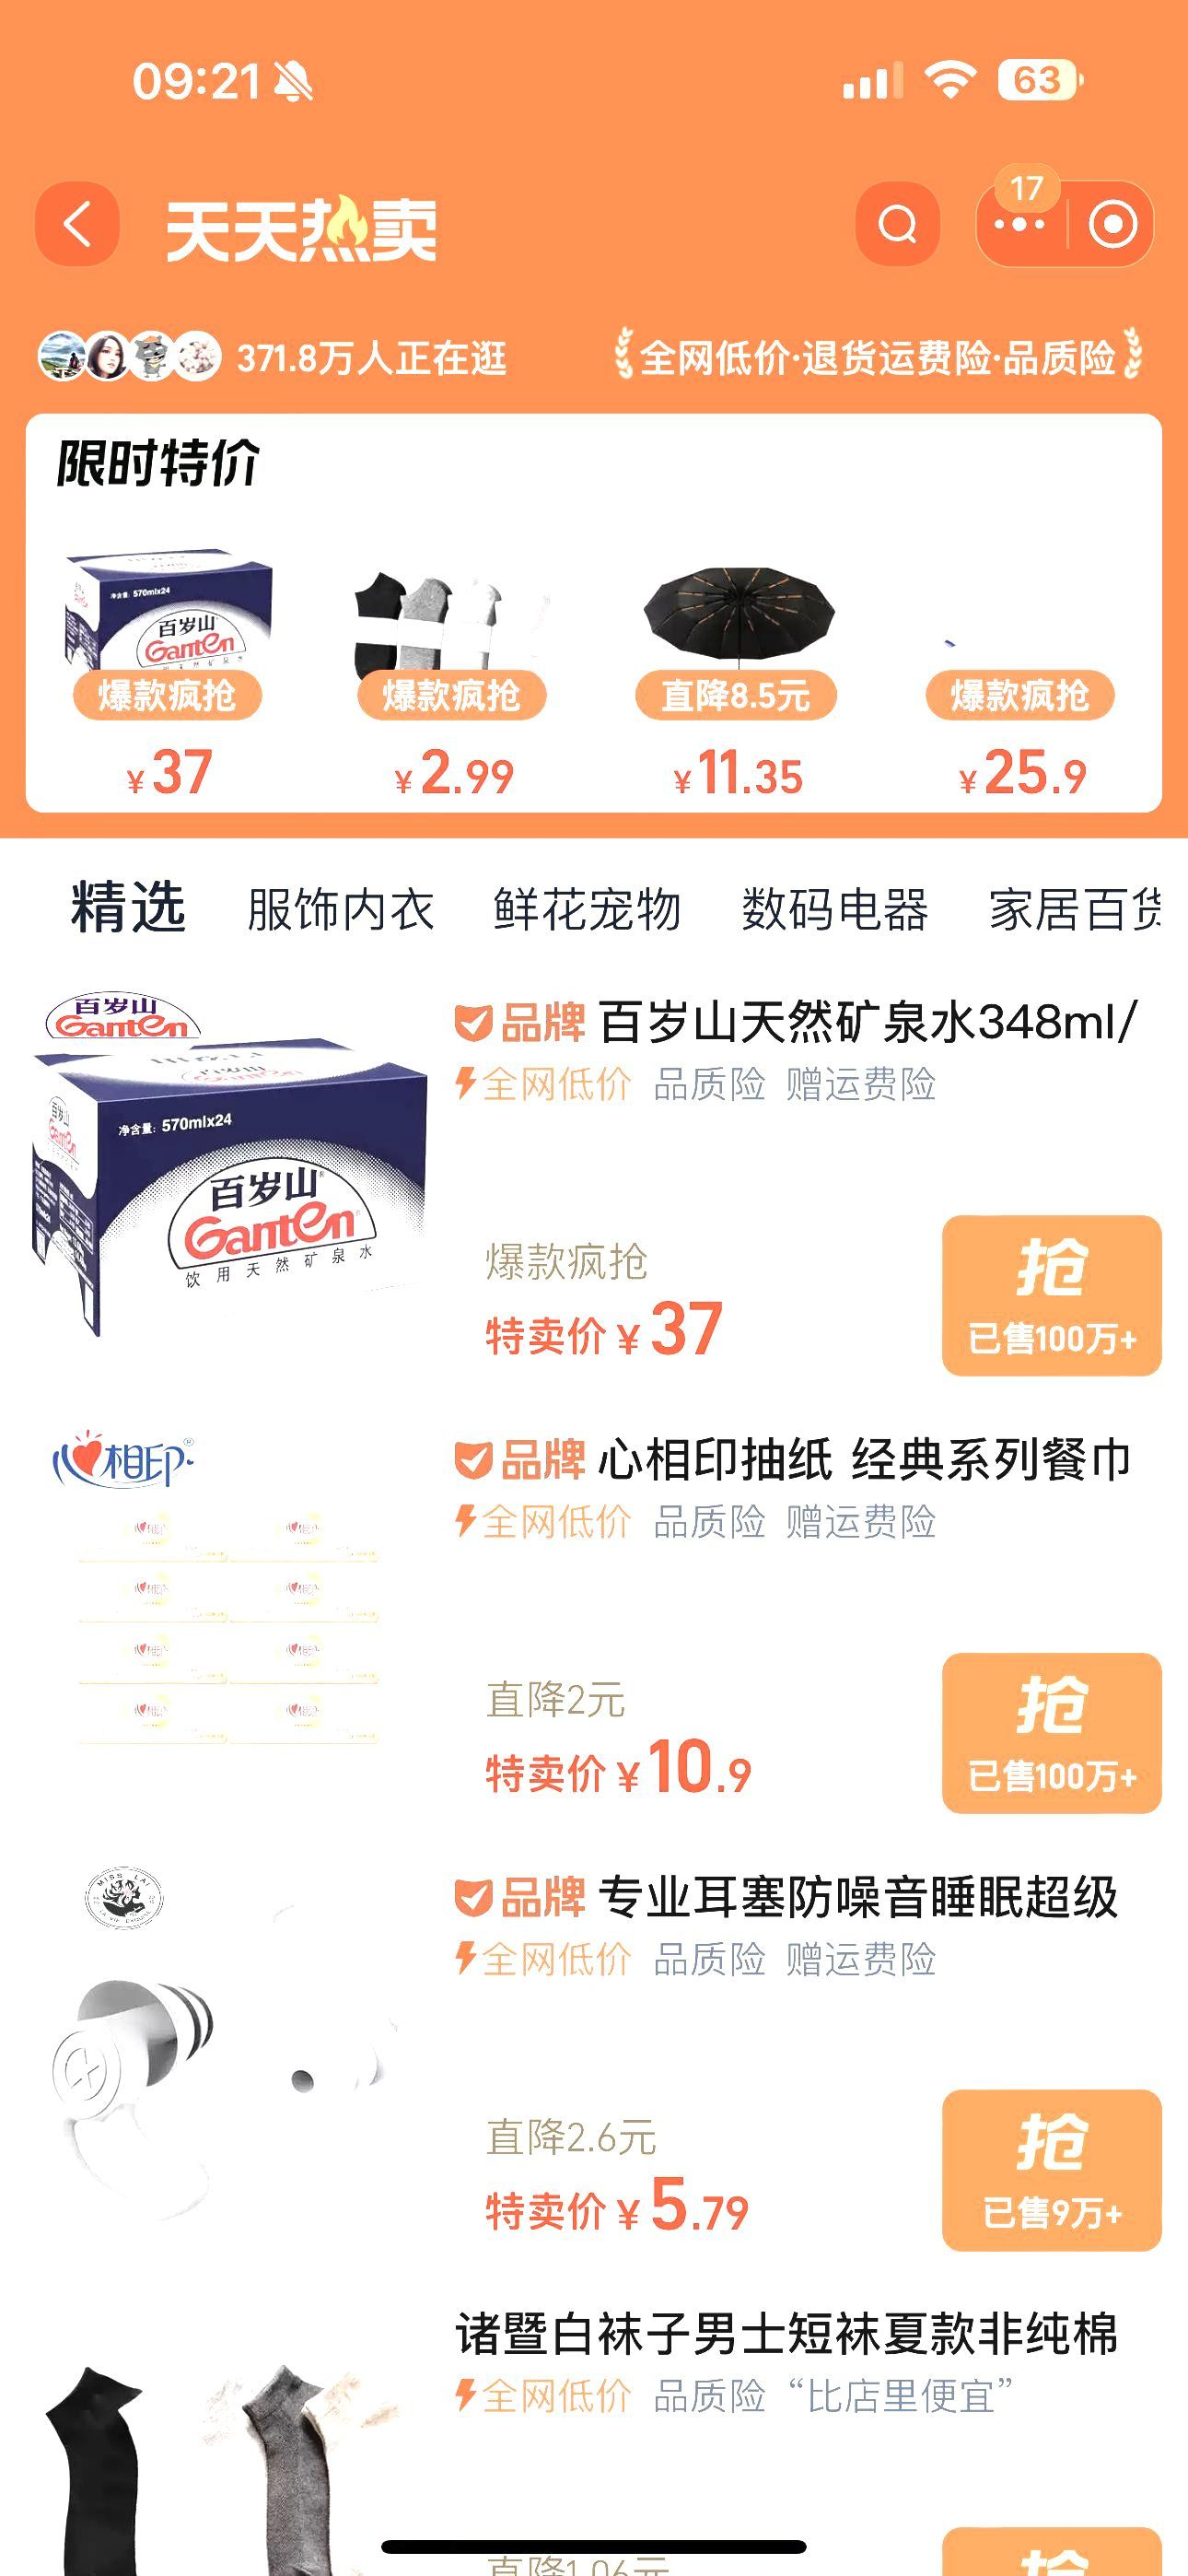item: (7, 936, 1181, 1408), (7, 1851, 1186, 2279), (3, 1408, 1176, 1830)
op_bar: (7, 148, 1186, 299)
seckill: (7, 391, 1185, 830)
